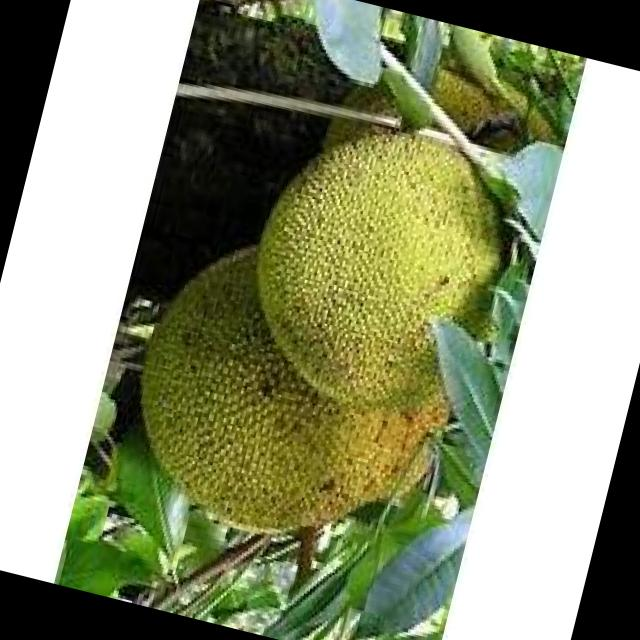Fruit: (88, 193, 496, 589)
